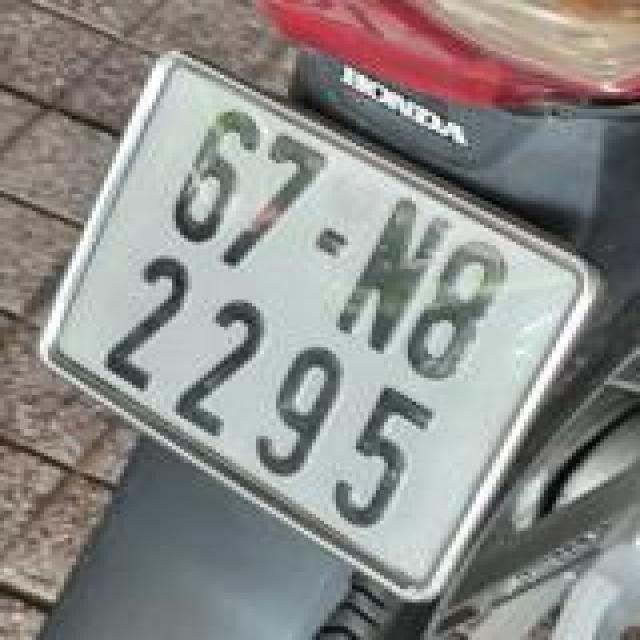2: (160, 285, 290, 454), (86, 239, 214, 406)
5: (314, 372, 454, 546)
6: (154, 98, 274, 261)
7: (208, 118, 350, 280)
8: (385, 219, 529, 403)
9: (238, 328, 364, 495)
N: (322, 185, 461, 368)
